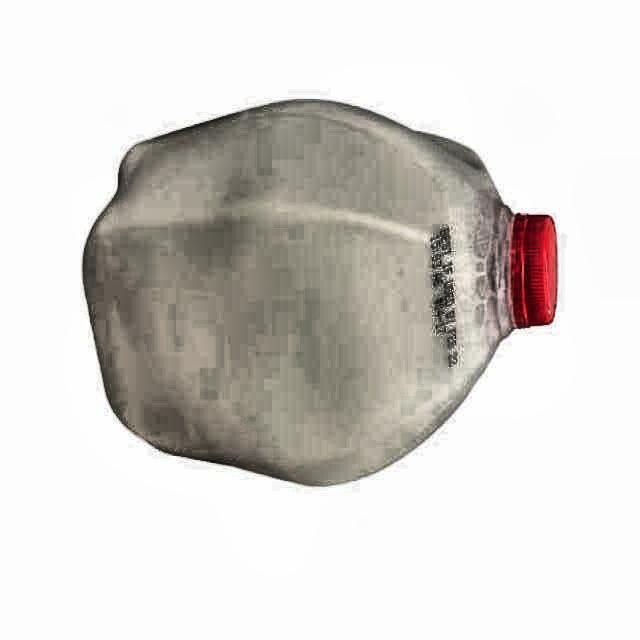plastic: (84, 102, 556, 484)
